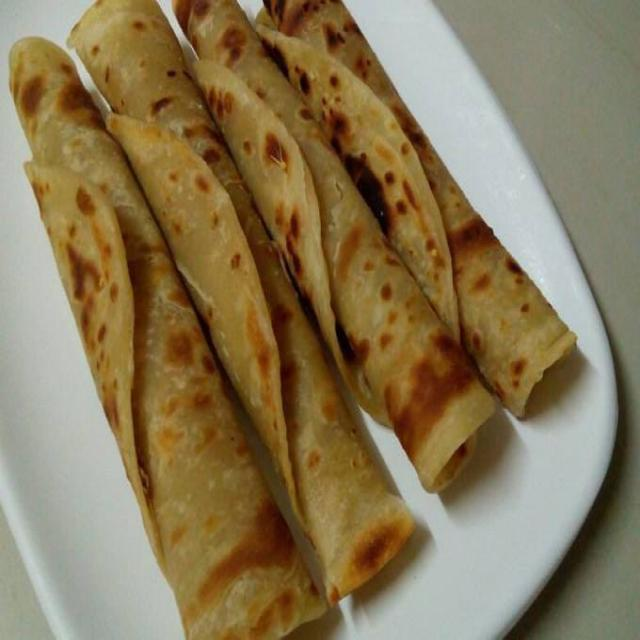dosa: (73, 0, 411, 640), (164, 0, 586, 497), (3, 24, 306, 640)
